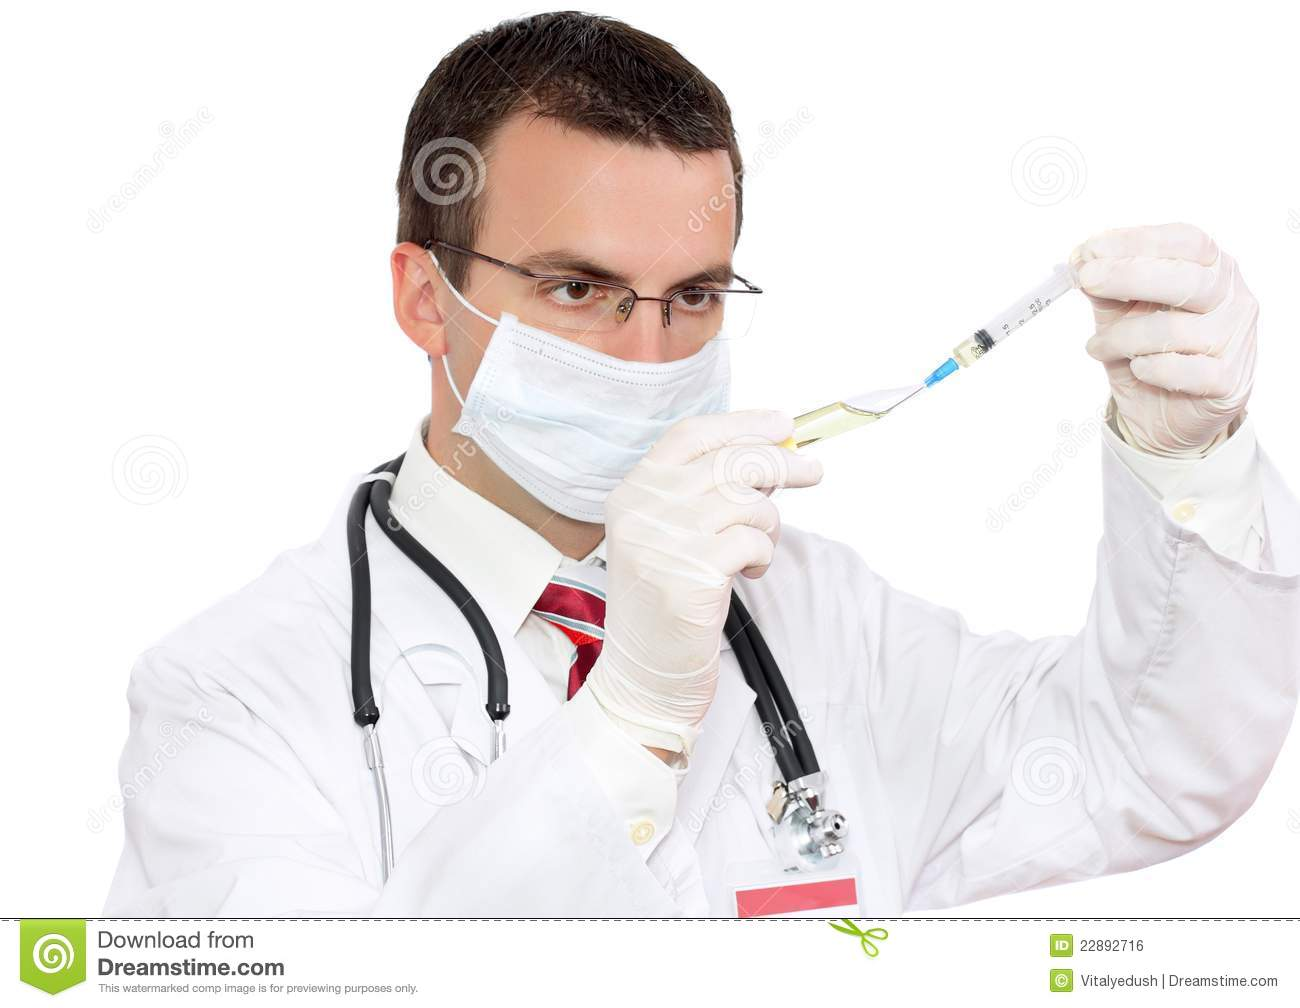mask: (469, 335, 770, 566)
